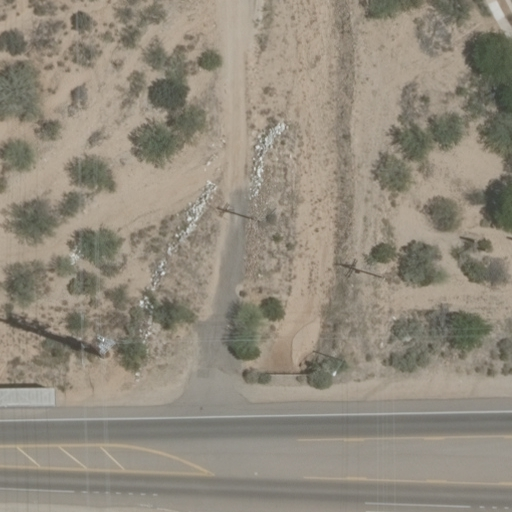DT: (376, 267, 399, 289)
TT: (83, 328, 118, 363)
